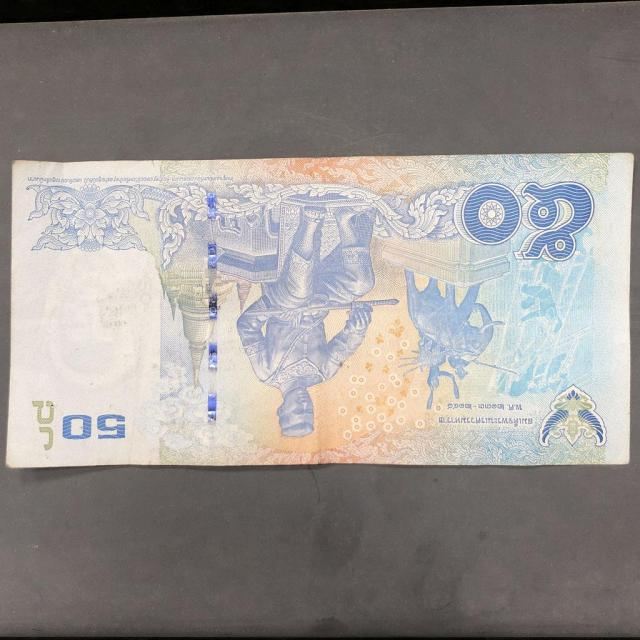THAI50: (4, 154, 636, 471)
